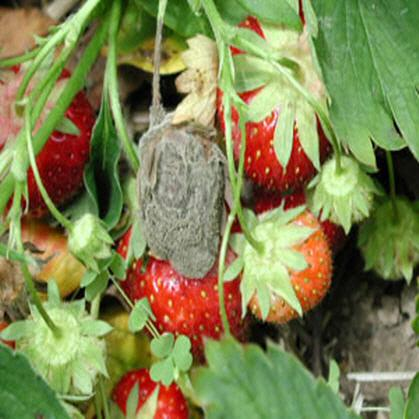Gray Mold: (134, 105, 228, 280)
